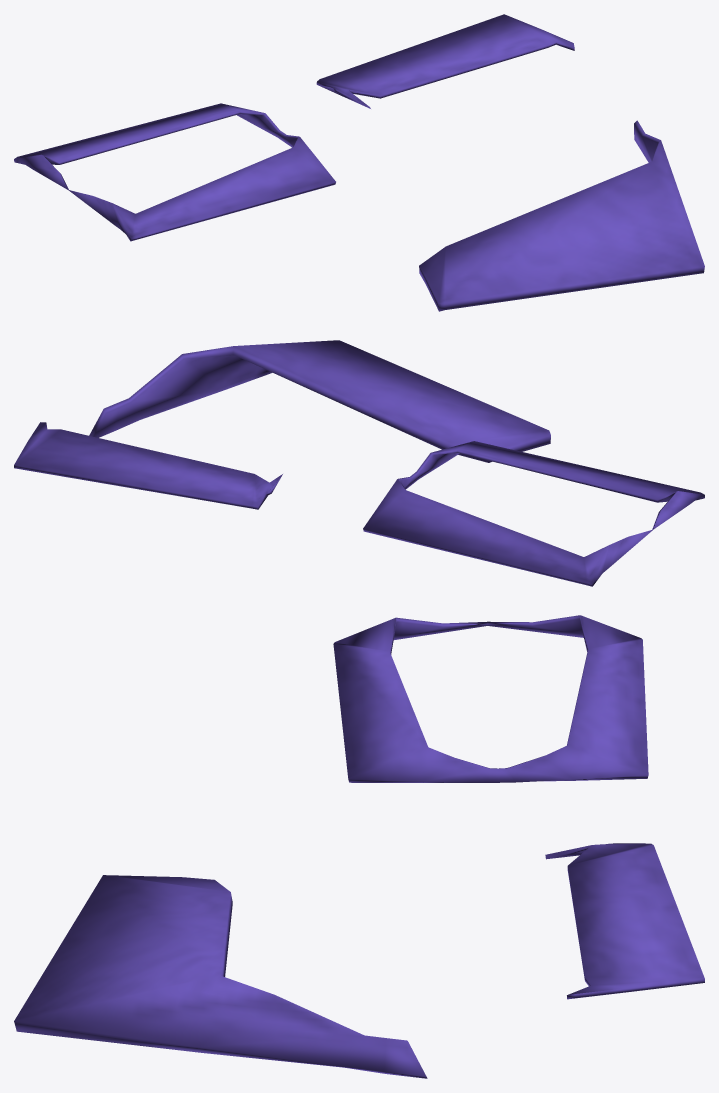
The model's file is TentScraps_DarkBlue.obj.
3 renders of one model, top to bottom at view 1: azimuth 30°, elevation 25°; view 2: azimuth 150°, elevation 25°; view 3: azimuth 270°, elevation 25°, orthographic. The views are drawn at different scales.
Visible parts, largest first — view 1: TentScraps.001_Material, TentScraps.002_Material, TentScraps_Material; view 2: TentScraps.001_Material, TentScraps.002_Material, TentScraps_Material; view 3: TentScraps.001_Material, TentScraps.002_Material, TentScraps_Material.
Part boxes in pixels (box(x1,y1,x2,y2)): TentScraps.001_Material: box(419, 120, 704, 311); TentScraps.002_Material: box(14, 103, 335, 241); TentScraps_Material: box(316, 14, 574, 108); TentScraps.001_Material: box(89, 340, 550, 462); TentScraps.002_Material: box(363, 441, 704, 586); TentScraps_Material: box(14, 422, 282, 509); TentScraps.001_Material: box(14, 875, 427, 1078); TentScraps.002_Material: box(333, 615, 648, 782); TentScraps_Material: box(545, 843, 704, 999).
Size of the model in its own units: 5.78 by 0.8765 by 4.6.
